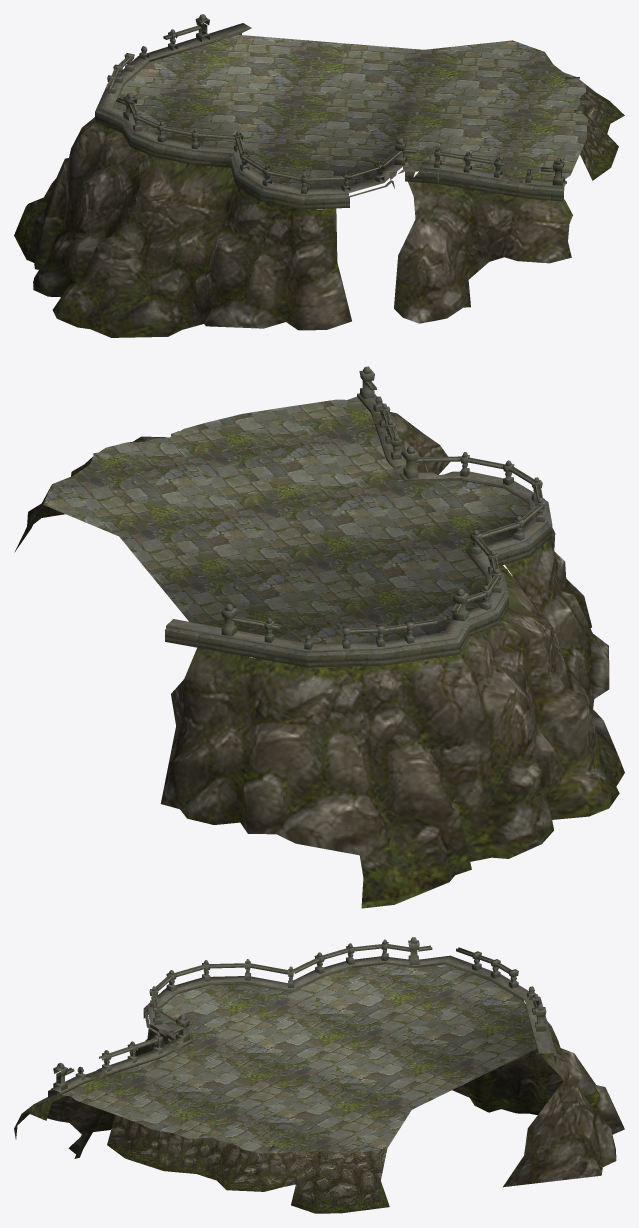
The model's file is S2_Build_XSC098_H1.FBX.
3 views of the same model, one above another, from view 1: azimuth 30°, elevation 25°; view 2: azimuth 150°, elevation 25°; view 3: azimuth 270°, elevation 25° (orthographic). The views are drawn at different scales.
Visible parts, largest first — view 1: S2_Build_XSC098_H1; view 2: S2_Build_XSC098_H1; view 3: S2_Build_XSC098_H1.
Part boxes in pixels (bbox=[...]): S2_Build_XSC098_H1: bbox=[14, 14, 624, 337]; S2_Build_XSC098_H1: bbox=[14, 366, 624, 908]; S2_Build_XSC098_H1: bbox=[14, 937, 624, 1213].
Bounding box in the file's own units: 5108 × 1919 × 5267.
